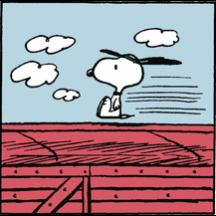snoopy: (86, 48, 182, 119)
